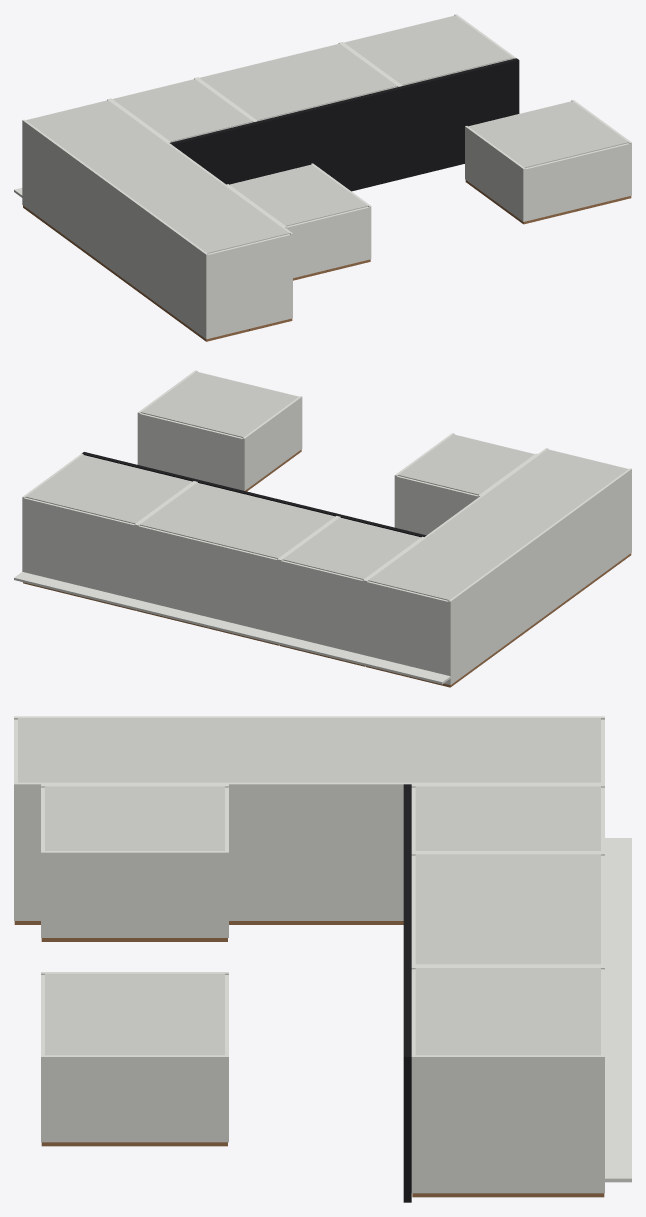
The model's file is MVP_Cozinha_Teste_moveis.obj.
3 renders of one model, top to bottom at view 1: azimuth 30°, elevation 25°; view 2: azimuth 150°, elevation 25°; view 3: azimuth 270°, elevation 25°, orthographic. The views are drawn at different scales.
Visible parts, largest first — view 1: M01_tall_cabinet, M02_drawer_cabinet, M06_wall_cabinet, M05_wall_cabinet, M03_sink_cabinet, M04_base_cabinet; view 2: M01_tall_cabinet, M03_sink_cabinet, M04_base_cabinet, M06_wall_cabinet, M02_drawer_cabinet, M05_wall_cabinet; view 3: M01_tall_cabinet, M04_base_cabinet, M06_wall_cabinet, M05_wall_cabinet, M03_sink_cabinet, M02_drawer_cabinet.
Part boxes in pixels (<box>): M01_tall_cabinet: <box>14,99,292,341</box>; M02_drawer_cabinet: <box>109,58,519,191</box>; M06_wall_cabinet: <box>465,100,631,224</box>; M05_wall_cabinet: <box>226,163,371,280</box>; M03_sink_cabinet: <box>196,42,400,121</box>; M04_base_cabinet: <box>341,14,516,86</box>; M01_tall_cabinet: <box>356,448,631,687</box>; M03_sink_cabinet: <box>128,481,337,645</box>; M04_base_cabinet: <box>14,453,195,610</box>; M06_wall_cabinet: <box>137,370,302,491</box>; M02_drawer_cabinet: <box>82,452,426,666</box>; M05_wall_cabinet: <box>394,433,537,535</box>; M01_tall_cabinet: <box>14,716,631,924</box>; M04_base_cabinet: <box>411,966,631,1197</box>; M06_wall_cabinet: <box>41,972,228,1146</box>; M05_wall_cabinet: <box>41,784,228,941</box>; M03_sink_cabinet: <box>411,852,631,1087</box>; M02_drawer_cabinet: <box>403,784,631,1202</box>.
Size of the model in its own units: 3000 by 598 by 2300.
